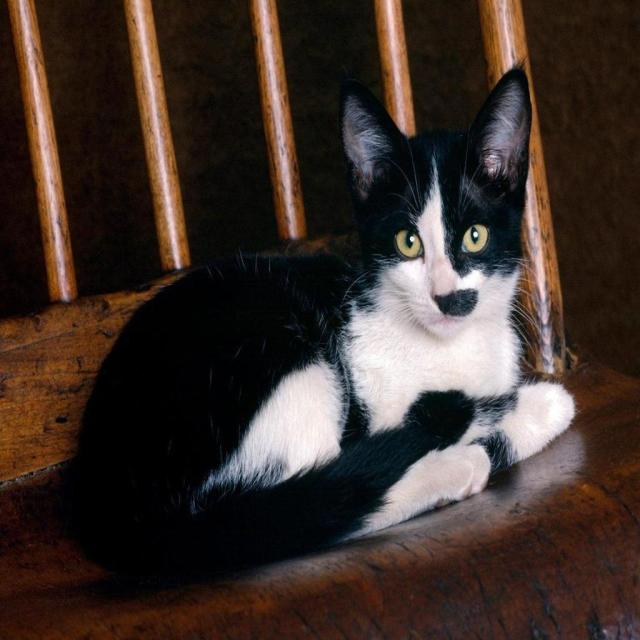Cat: (58, 47, 580, 601)
